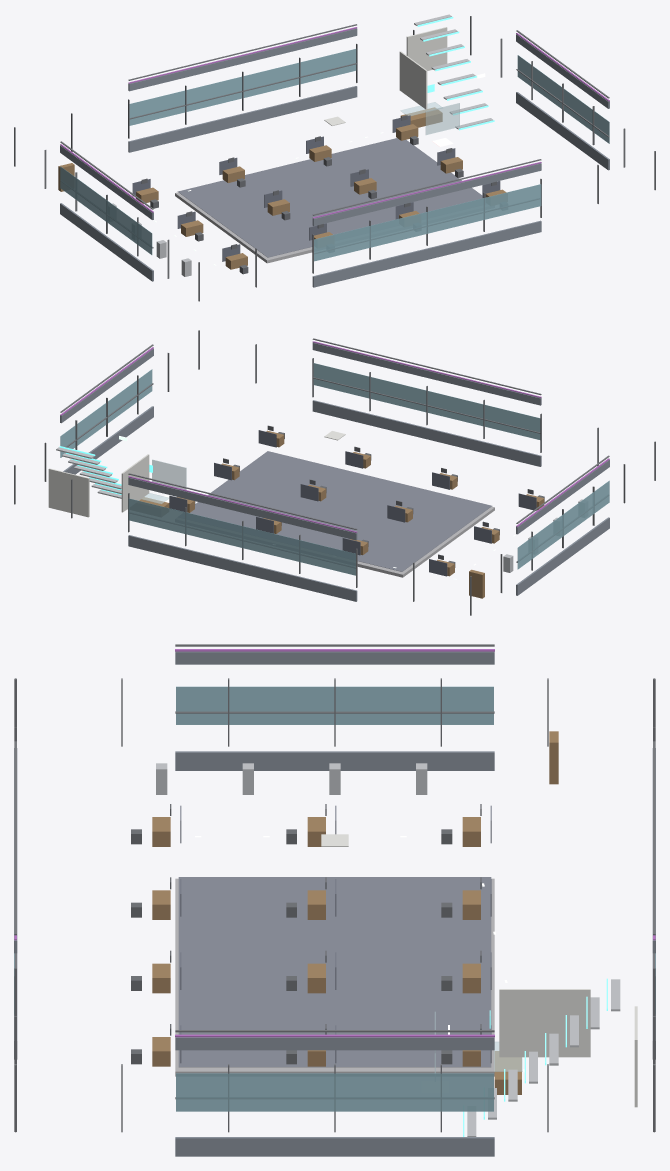
The model's file is Floor_04_Office.fbx.
3 views of the same model, one above another, from view 1: azimuth 30°, elevation 25°; view 2: azimuth 150°, elevation 25°; view 3: azimuth 270°, elevation 25° (orthographic). The views are drawn at different scales.
Parts seen in each view (by area): view 1: Floor_04_Office; view 2: Floor_04_Office; view 3: Floor_04_Office.
Boxes of the visible parts, x1=… form: Floor_04_Office: x1=14, y1=14, x2=655, y2=301; Floor_04_Office: x1=14, y1=330, x2=655, y2=615; Floor_04_Office: x1=14, y1=644, x2=655, y2=1156.
Size of the model in its own units: 2007 by 345 by 1407.
